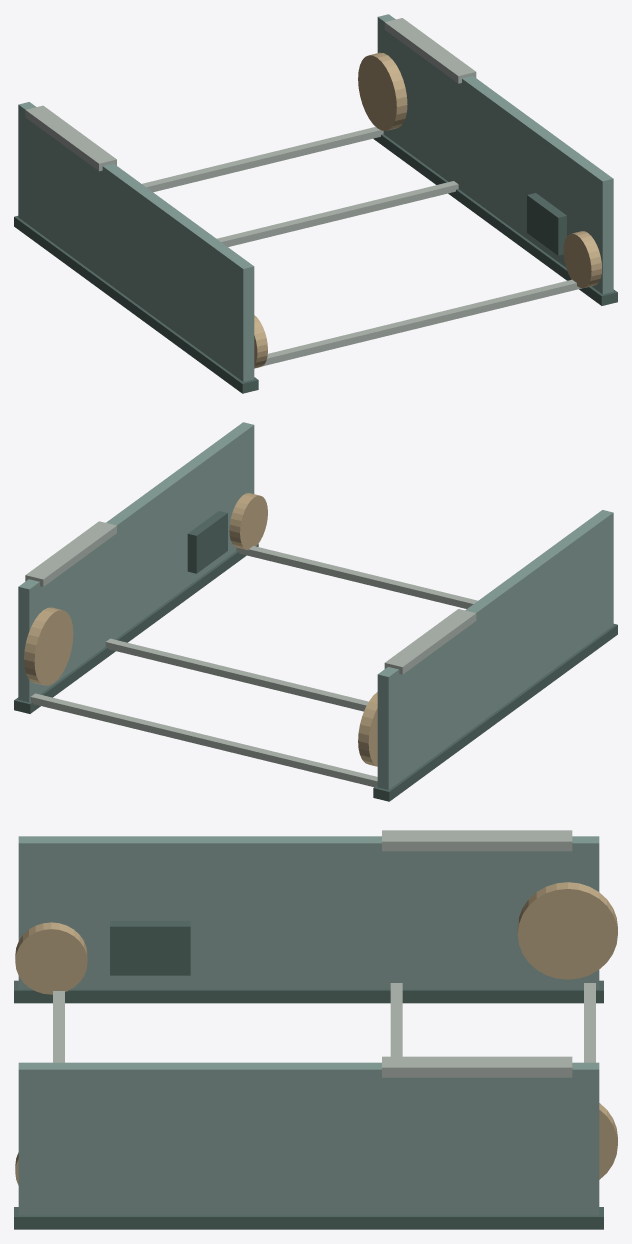
File: loom-frame.glb
The picture shows the model from 3 angles, top to bottom: view 1: azimuth 30°, elevation 25°; view 2: azimuth 150°, elevation 25°; view 3: azimuth 270°, elevation 25°; orthographic projection. The views are drawn at different scales.
Visible parts, largest first — view 1: L_MAIN_COLUMN, R_MAIN_COLUMN, CROSS_RAIL_3.94, L_BASE_RAIL, R_WARP_BEARING, CROSS_RAIL_-1.38, CROSS_RAIL_-4.43, R_BASE_RAIL, R_TOP_ARM, L_TOP_ARM, HOUSING_4.05, R_CLOTH_BEARING (+1 smaller); view 2: L_MAIN_COLUMN, R_MAIN_COLUMN, CROSS_RAIL_-4.43, L_BASE_RAIL, CROSS_RAIL_-1.38, R_WARP_BEARING, CROSS_RAIL_3.94, R_BASE_RAIL, L_TOP_ARM, R_TOP_ARM, HOUSING_4.05, R_CLOTH_BEARING (+1 smaller); view 3: R_MAIN_COLUMN, L_MAIN_COLUMN, R_BASE_RAIL, L_BASE_RAIL, L_WARP_BEARING, HOUSING_-4.05, L_CLOTH_BEARING, L_TOP_ARM, R_TOP_ARM, R_WARP_BEARING, CROSS_RAIL_-1.38, CROSS_RAIL_-4.43 (+1 smaller).
Part boxes in pixels (x1,y1,x2,y2): L_MAIN_COLUMN: [18, 102, 254, 381]; R_MAIN_COLUMN: [377, 14, 613, 294]; CROSS_RAIL_3.94: [262, 279, 581, 366]; L_BASE_RAIL: [14, 216, 258, 393]; R_WARP_BEARING: [358, 52, 407, 130]; CROSS_RAIL_-1.38: [217, 181, 458, 246]; CROSS_RAIL_-4.43: [142, 127, 383, 192]; R_BASE_RAIL: [373, 134, 617, 305]; R_TOP_ARM: [384, 18, 476, 83]; L_TOP_ARM: [25, 105, 116, 171]; HOUSING_4.05: [527, 193, 566, 255]; R_CLOTH_BEARING: [563, 231, 601, 288]; L_MAIN_COLUMN: [377, 510, 613, 789]; R_MAIN_COLUMN: [18, 422, 254, 702]; CROSS_RAIL_-4.43: [30, 693, 377, 787]; L_BASE_RAIL: [373, 624, 617, 801]; CROSS_RAIL_-1.38: [105, 638, 368, 711]; R_WARP_BEARING: [24, 607, 73, 685]; CROSS_RAIL_3.94: [236, 546, 477, 608]; R_BASE_RAIL: [14, 544, 258, 713]; L_TOP_ARM: [384, 609, 476, 674]; R_TOP_ARM: [25, 521, 116, 586]; HOUSING_4.05: [187, 511, 227, 573]; R_CLOTH_BEARING: [229, 493, 267, 550]; R_MAIN_COLUMN: [18, 1062, 599, 1215]; L_MAIN_COLUMN: [18, 836, 599, 989]; R_BASE_RAIL: [14, 1207, 603, 1229]; L_BASE_RAIL: [14, 980, 603, 1003]; L_WARP_BEARING: [517, 882, 617, 979]; HOUSING_-4.05: [110, 921, 190, 975]; L_CLOTH_BEARING: [15, 922, 87, 994]; L_TOP_ARM: [382, 830, 572, 851]; R_TOP_ARM: [382, 1056, 572, 1077]; R_WARP_BEARING: [599, 1103, 617, 1179]; CROSS_RAIL_-1.38: [390, 983, 402, 1056]; CROSS_RAIL_-4.43: [584, 983, 595, 1062].
Bounding box in the file's own units: 8.86 × 2.82 × 9.52.
